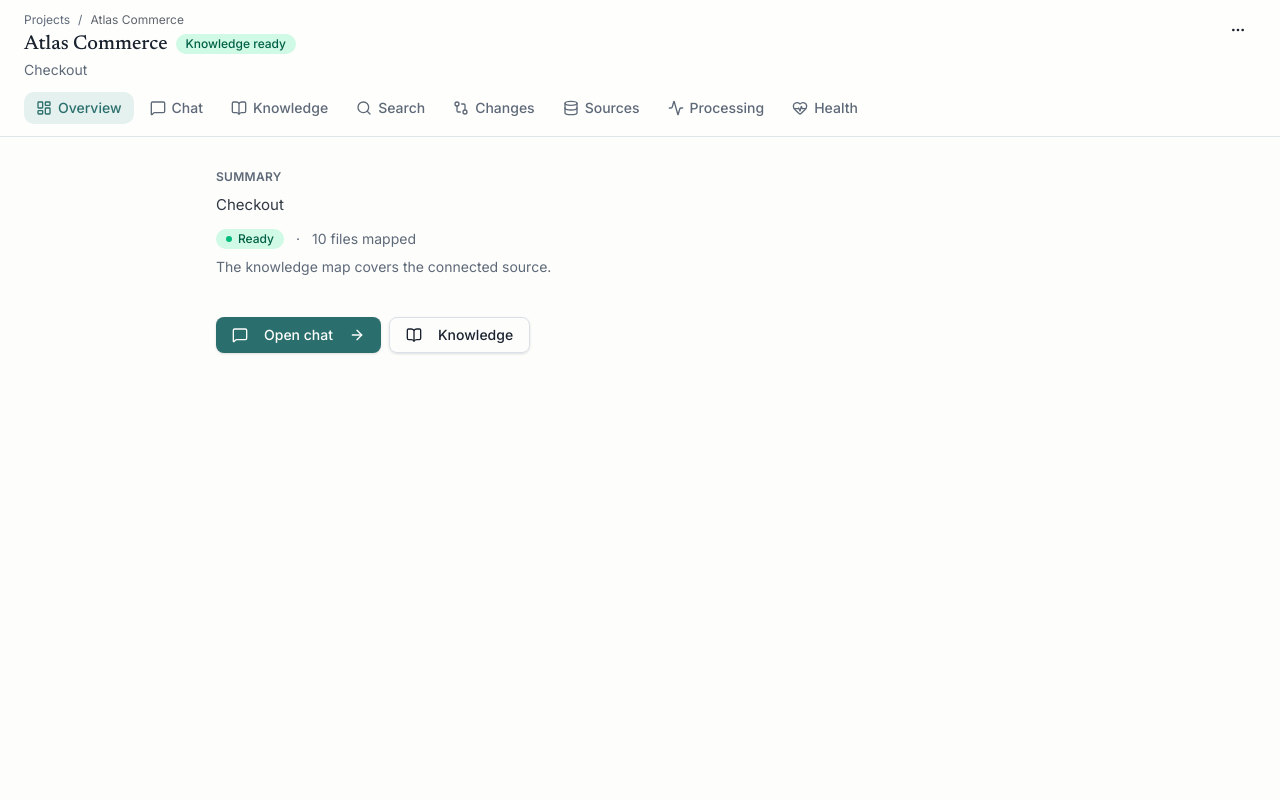
it: ProjectDetailPage › surfaces forbidden archive errors inline
Expected: the heading "Atlas Commerce" is shown, left=24, top=30, right=168, bottom=58
Click the button named "Actions": (1238, 30) left=1220, top=12, right=1256, bottom=48
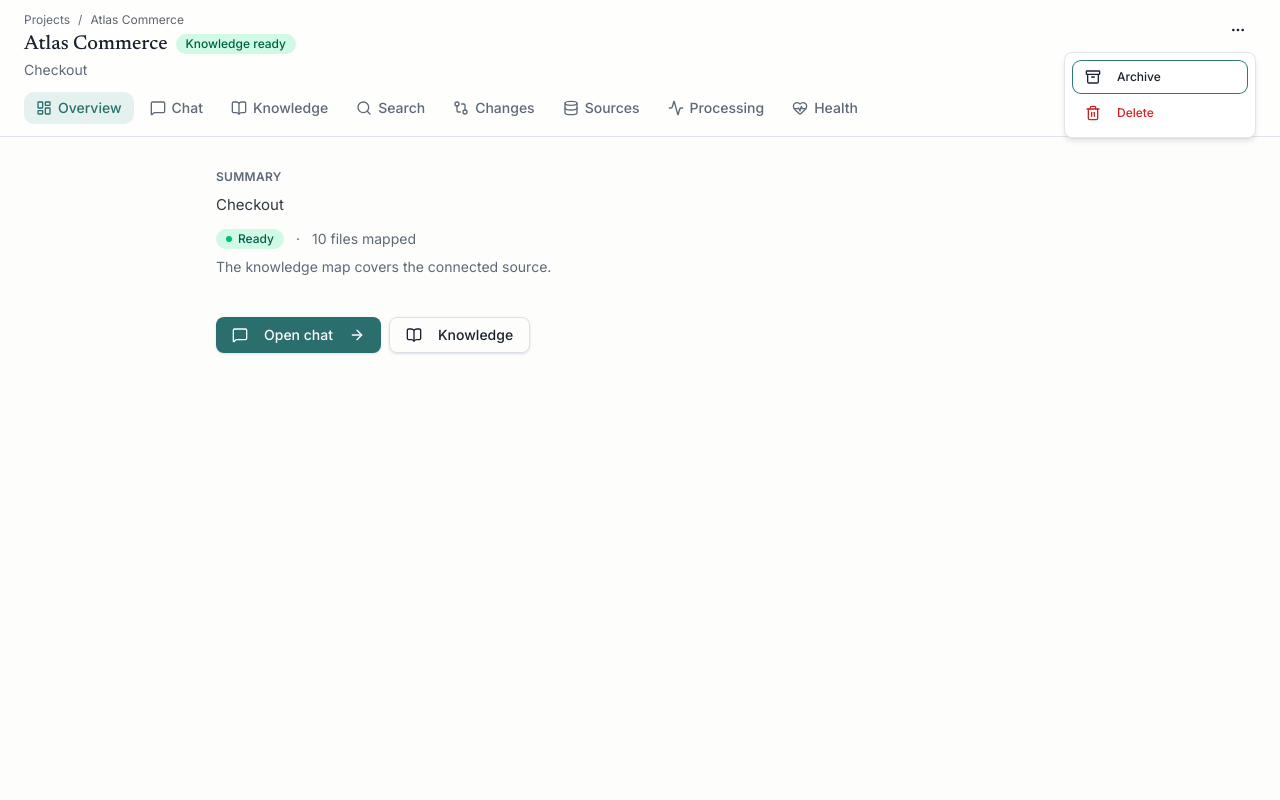
Click the button "Archive": (1160, 77) left=1073, top=61, right=1247, bottom=93
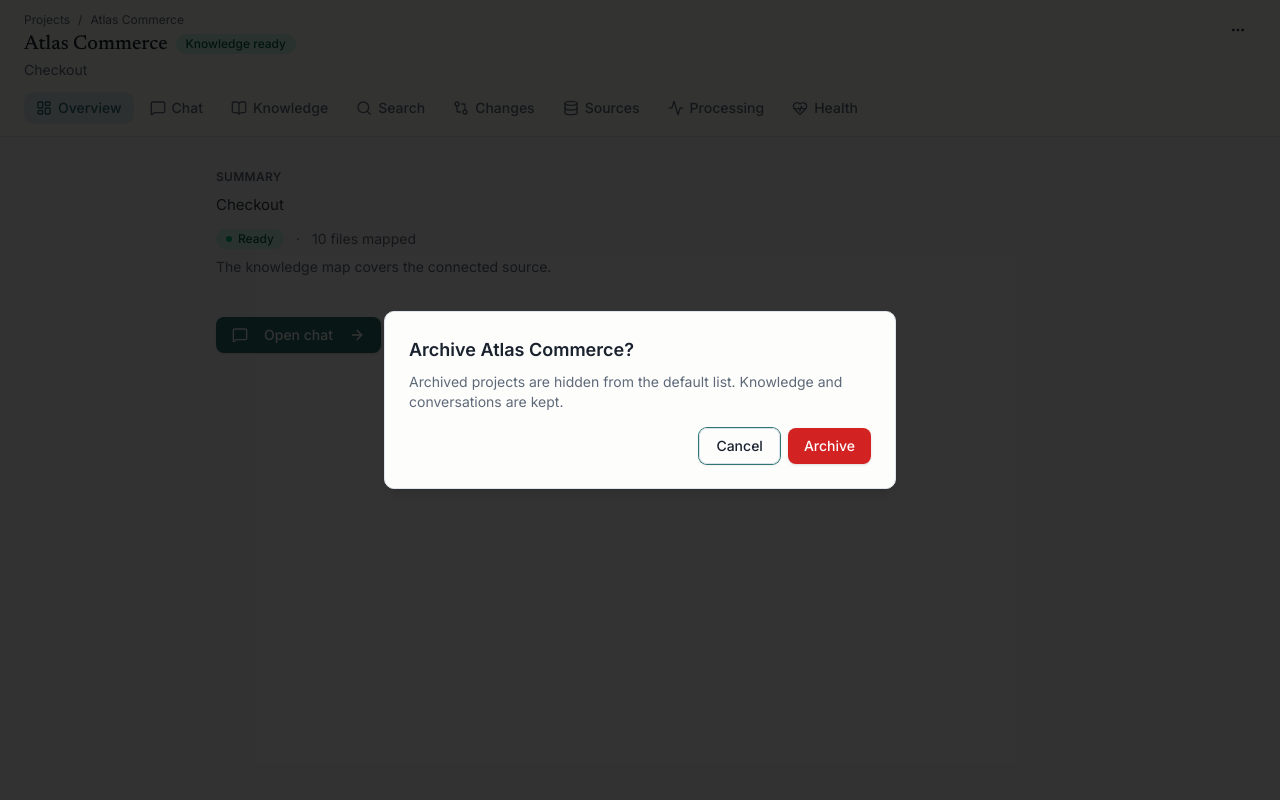
Click the button "Archive": (829, 446) left=788, top=428, right=871, bottom=464
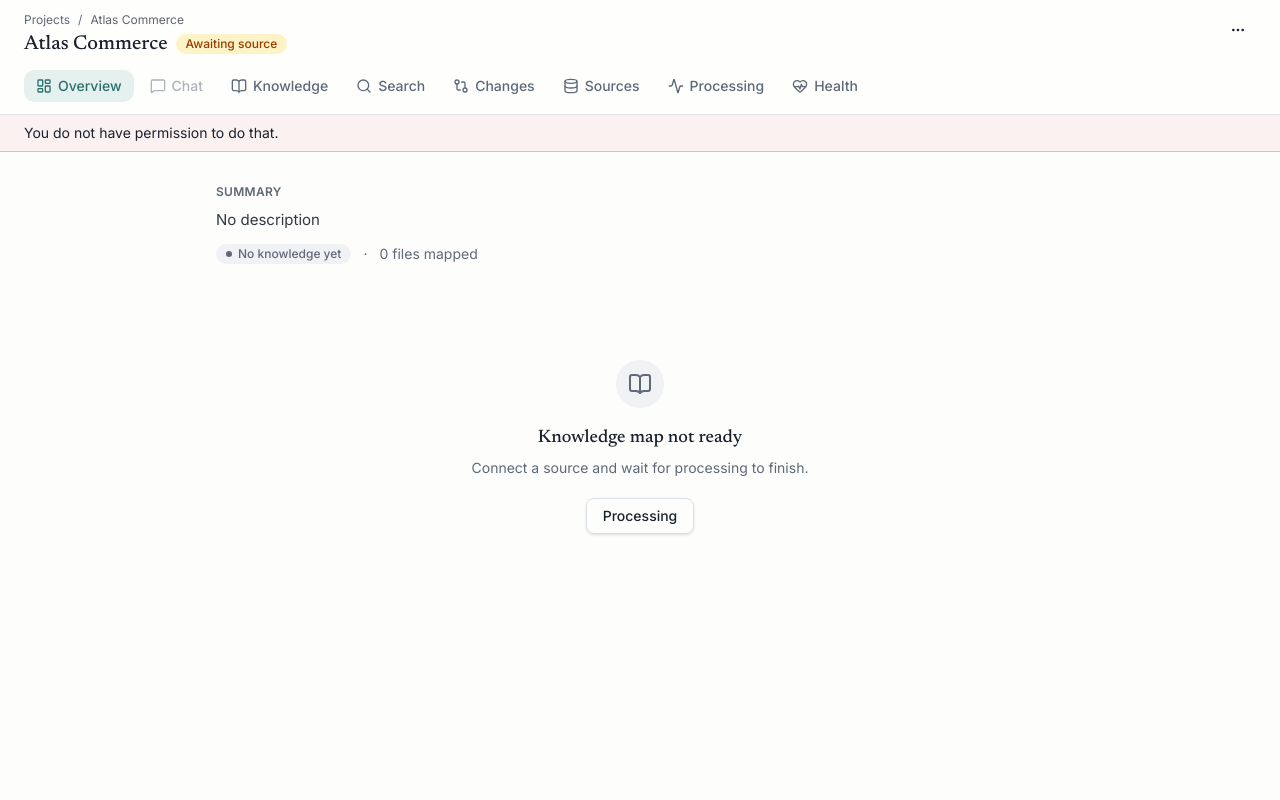
Expected: the message shows "permission", left=24, top=124, right=278, bottom=141
